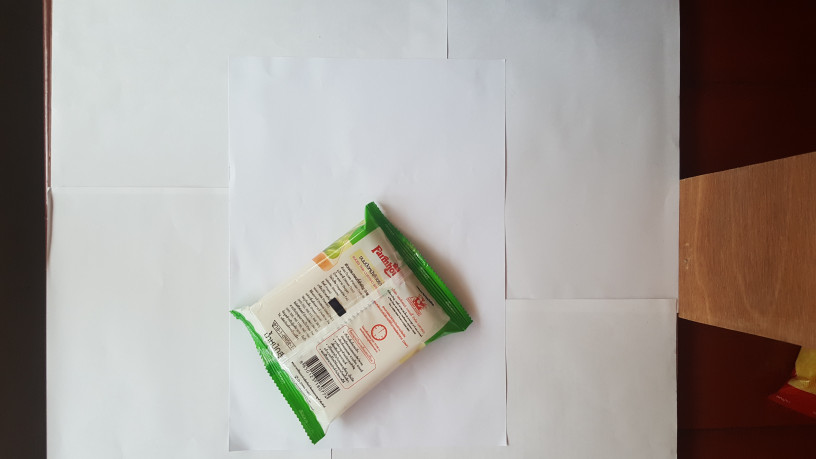farmhouse-bread-pandan: (226, 204, 481, 454)
